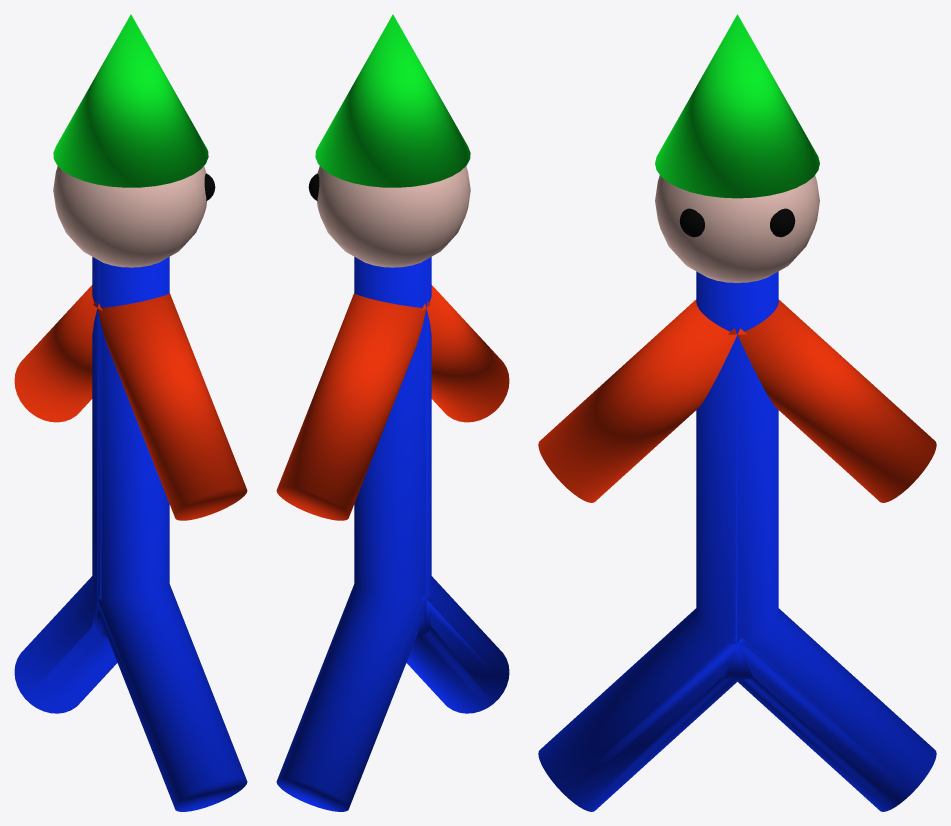
Rendered from publiekpong.gltf.
3 renders of one model, left to right at view 1: azimuth 30°, elevation 25°; view 2: azimuth 150°, elevation 25°; view 3: azimuth 270°, elevation 25°, orthographic. The views are drawn at different scales.
Visible parts, largest first — view 1: Cylinder, Cylinder.002, Cone, Sphere, Cylinder.001; view 2: Cylinder, Cylinder.001, Cone, Sphere, Cylinder.002; view 3: Cylinder, Cylinder.001, Cylinder.002, Cone, Sphere.
Boxes of the visible parts, x1,y1,x2,y2 form: Cylinder: [14, 257, 247, 811]; Cylinder.002: [93, 293, 247, 520]; Cone: [53, 14, 208, 187]; Sphere: [53, 166, 206, 267]; Cylinder.001: [14, 285, 102, 422]; Cylinder: [276, 257, 509, 811]; Cylinder.001: [276, 293, 430, 520]; Cone: [315, 14, 470, 187]; Sphere: [317, 166, 470, 267]; Cylinder.002: [421, 285, 509, 422]; Cylinder: [538, 271, 936, 811]; Cylinder.001: [728, 299, 936, 502]; Cylinder.002: [538, 299, 746, 502]; Cone: [655, 14, 819, 198]; Sphere: [655, 175, 819, 282].
Bounding box in the file's own units: 2 × 10.6 × 4.83.
